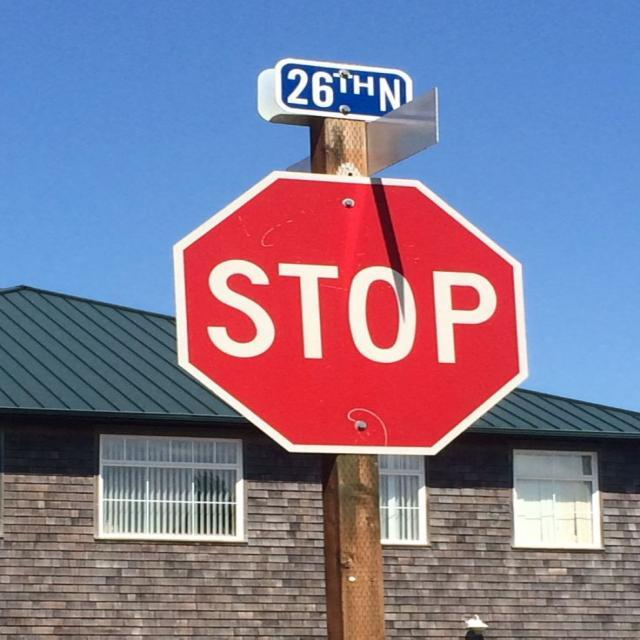stop: (171, 168, 529, 456)
